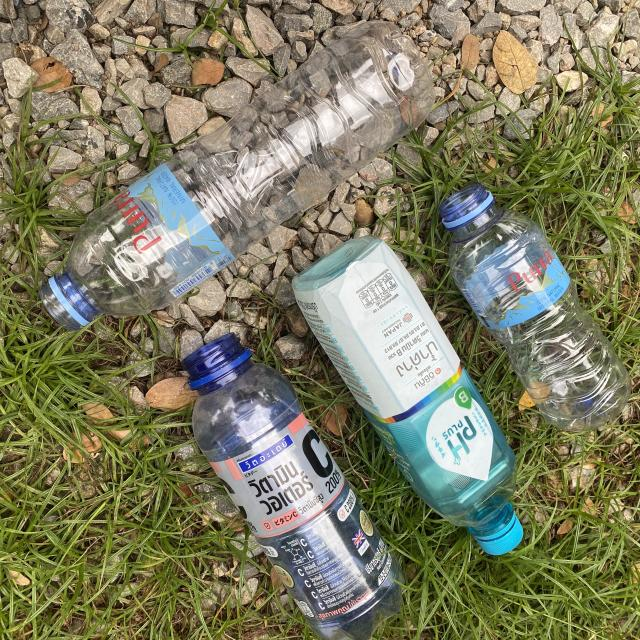plastik: (40, 22, 434, 330), (292, 236, 522, 555), (182, 334, 404, 640), (439, 182, 631, 431)
